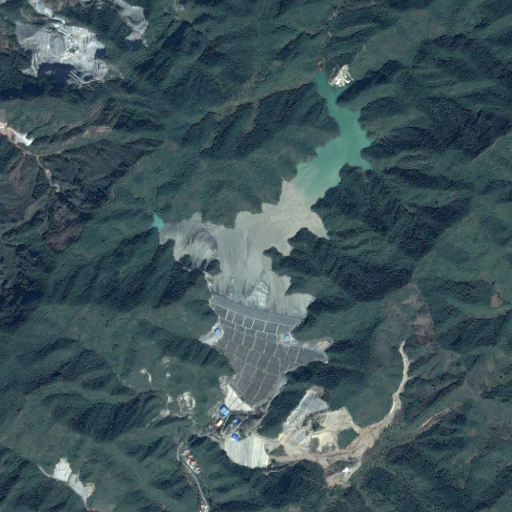tp: (148, 67, 376, 412)
